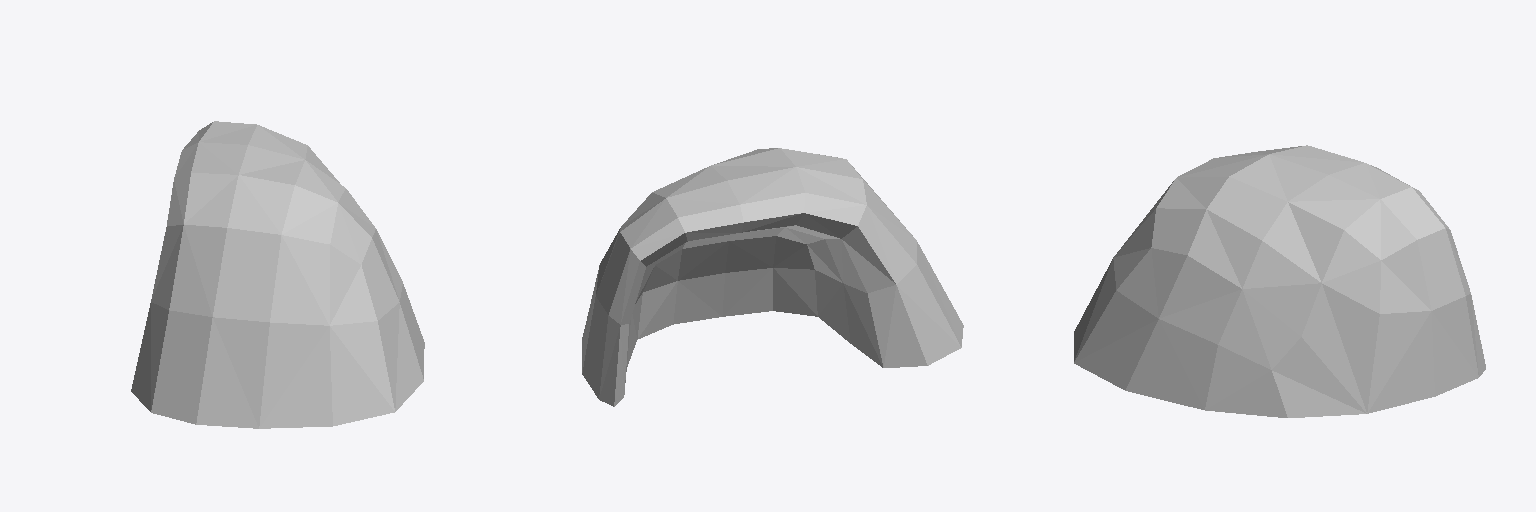
Rendered from cave_boulder.obj.
The picture shows the model from 3 angles: view 1: azimuth 30°, elevation 25°; view 2: azimuth 150°, elevation 25°; view 3: azimuth 270°, elevation 25°; orthographic projection.
Parts seen in each view (by area): view 1: cave_boulder_Cube.011; view 2: cave_boulder_Cube.011; view 3: cave_boulder_Cube.011.
Part boxes in pixels (left/top/right/bottom): cave_boulder_Cube.011: left=131, top=121, right=424, bottom=428; cave_boulder_Cube.011: left=582, top=148, right=963, bottom=406; cave_boulder_Cube.011: left=1074, top=145, right=1485, bottom=417.
Bounding box in the file's own units: 14.13 × 8.19 × 16.91.